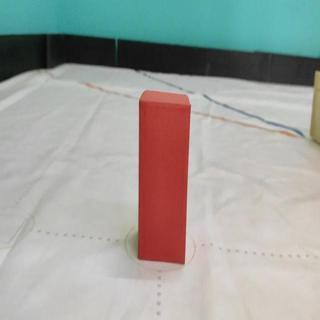redbox: (137, 90, 191, 266)
